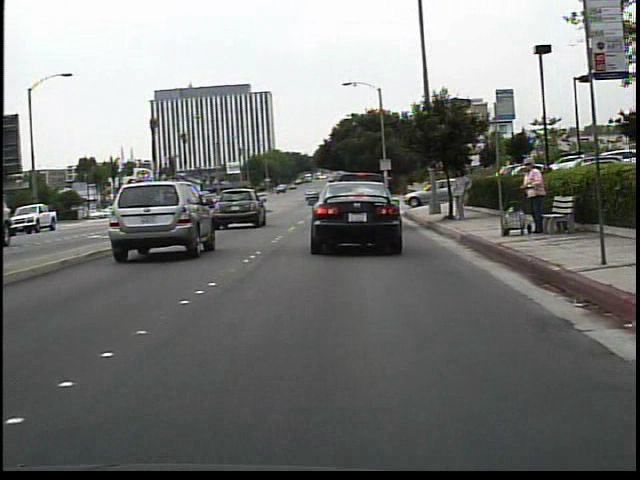person: (516, 153, 547, 235), (448, 165, 474, 223)
